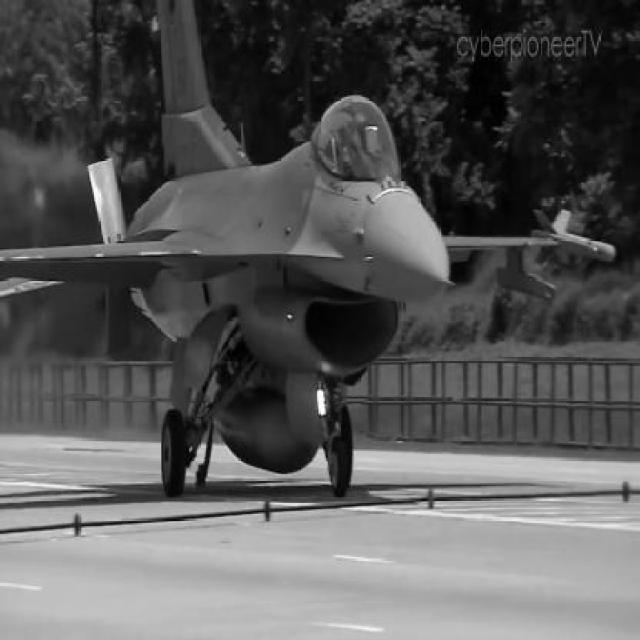Airplane: (1, 1, 618, 501)
